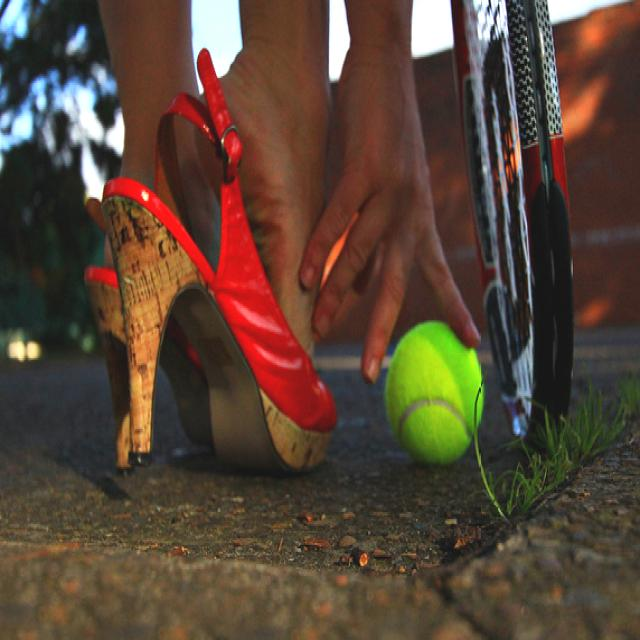Vehicle: (5, 318, 94, 362)
